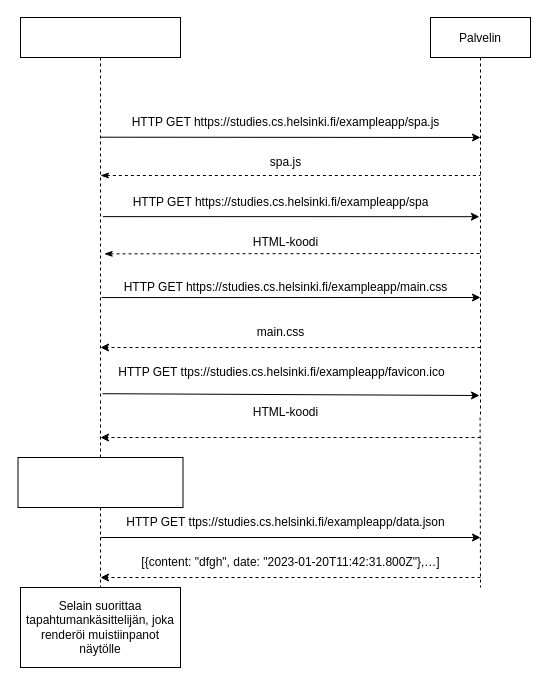
Some shapes in this 548 by 685 pixel diagram are drawn without their labels. Here are the shapes that lost their labels. From the top down, the box of each, then its label:
(20, 16, 180, 398): Selain
(17, 456, 183, 508): Selain alkaa suorittaa js-koodia, joka pyytää JSON-datan palvelimelta
